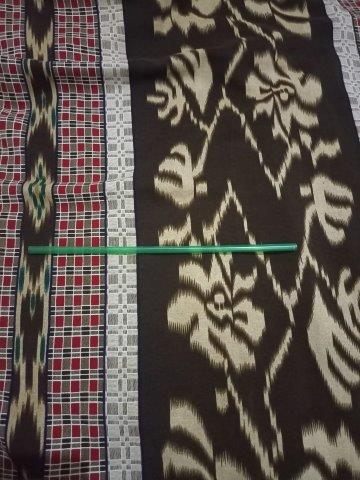sedotan: (28, 243, 297, 253)
